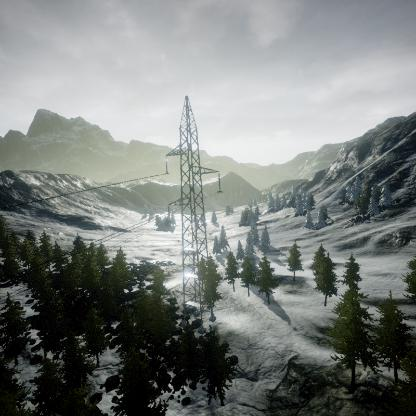tower: (160, 94, 225, 323)
